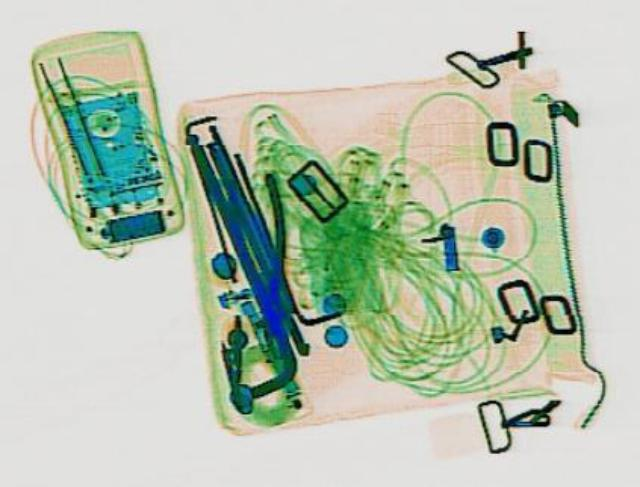Pliers: (208, 170, 310, 335)
